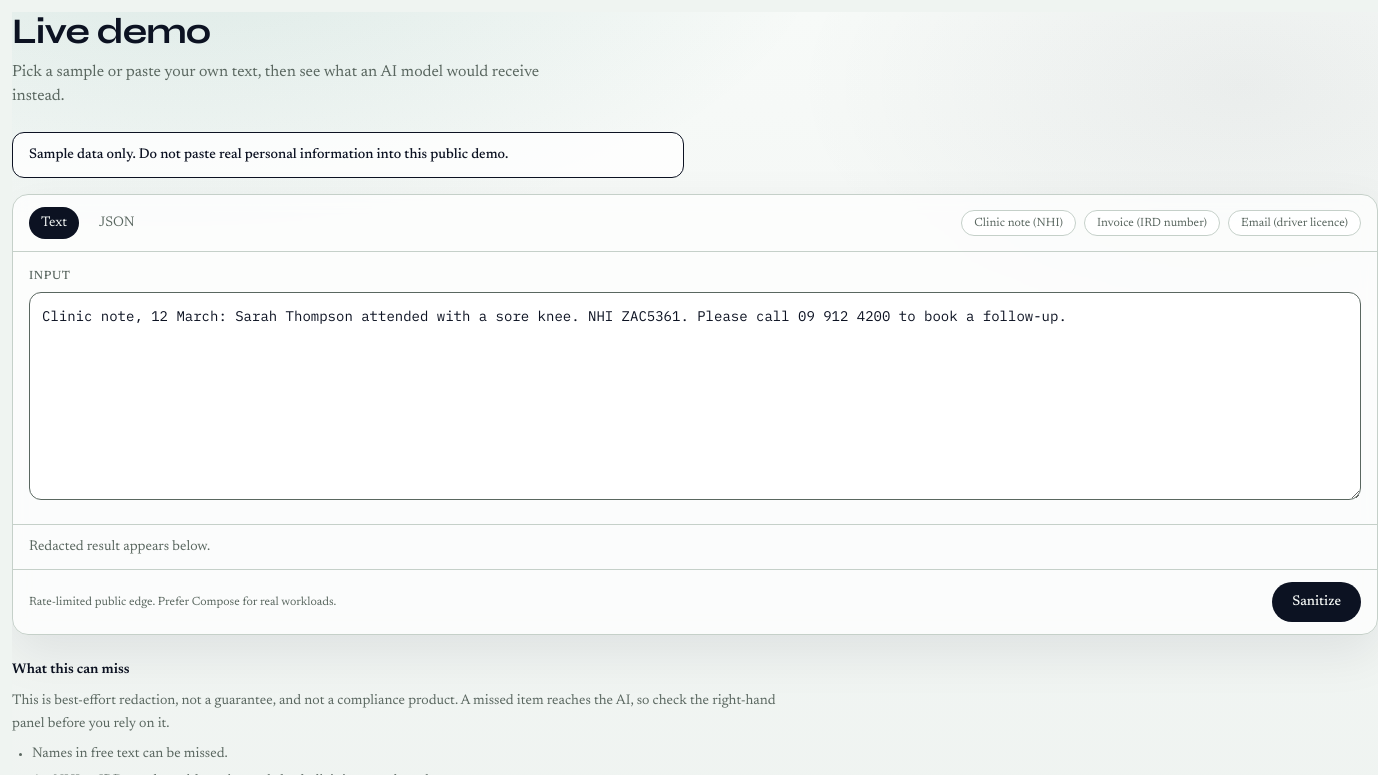
Test case: Playground › asks for text when the box is empty and sends nothing
The width and height of the screenshot is (1378, 775).
Clear the text box labelled "Input" at (695, 396), box [29,292,1361,500]
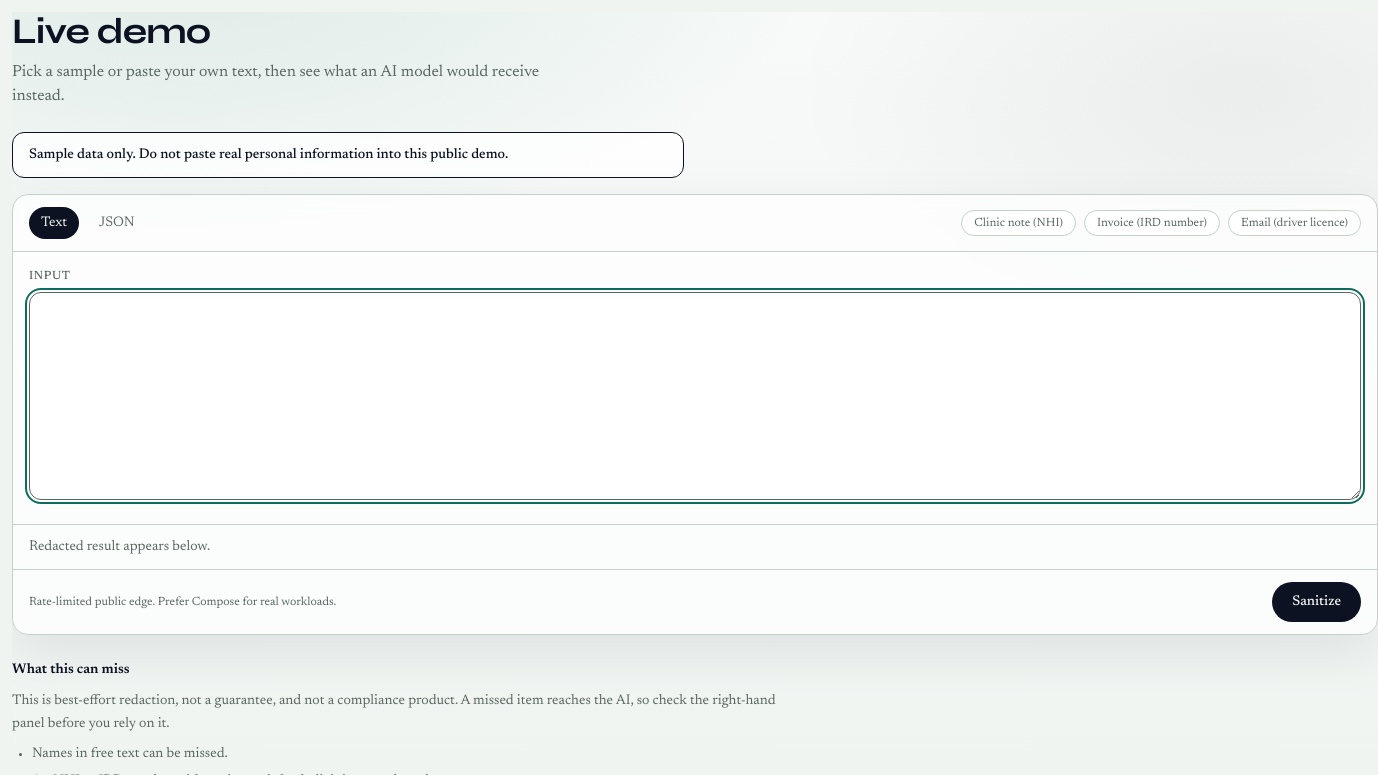
Click the button "Sanitize" at (1317, 602), box [1272,582,1361,622]
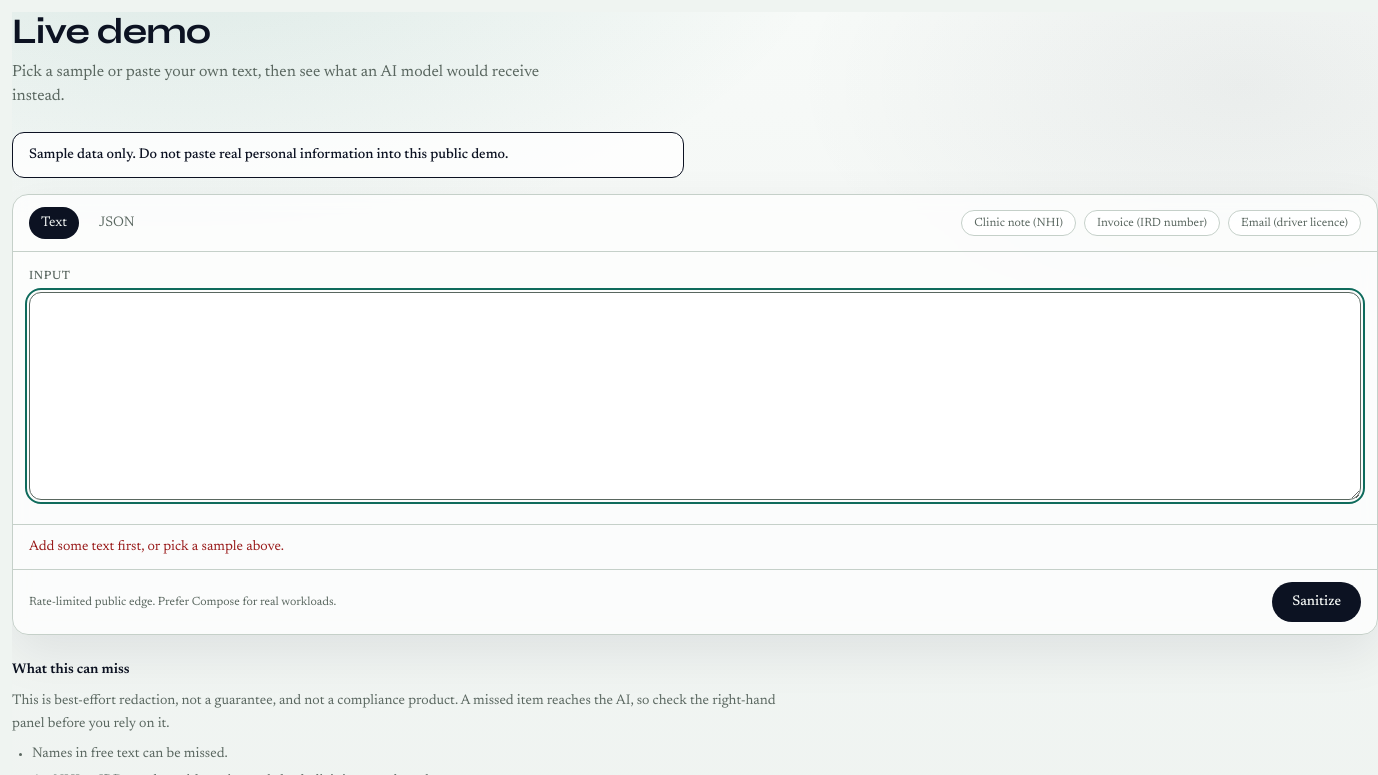
expect the message shows "Add some text first": met, box [29,540,284,554]
